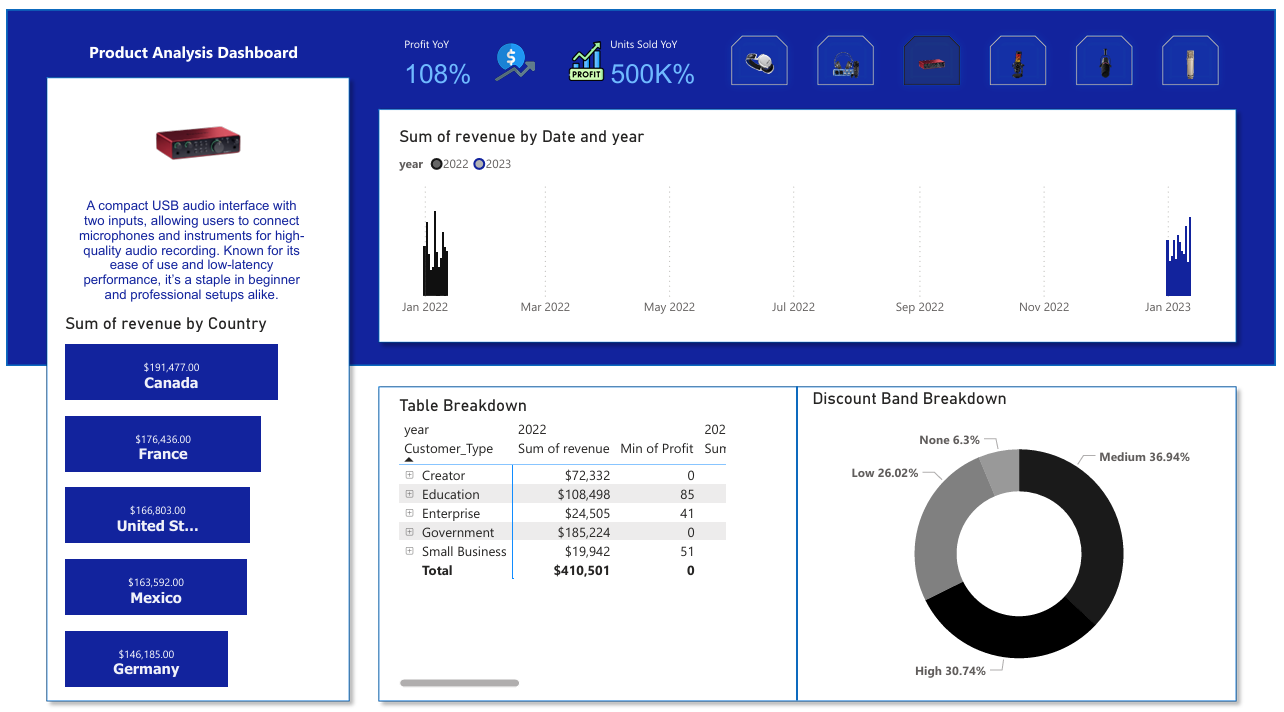

This screenshot's page, from the dashboard's own definition file:
{"tool":"powerbi","page":{"name":"Page 1","canvas":[1280,720],"ordinal":0},"visuals":[{"type":"shape","box":[0,0,1280,359.4],"z":0},{"type":"shape","box":[365.7,91.4,884.1,253.9],"z":1000},{"type":"shape","box":[30.8,58.9,324.6,648.4],"z":2000},{"type":"advancedSlicerVisual","fields":{"Values":["Query1.Image_url"]},"box":[714.6,10,526.9,81.6],"z":3000},{"type":"cardVisual","fields":{"Data":["Min(Query1.Image_url)"]},"box":[112.4,68.9,160.5,156.9],"z":5000},{"type":"shape","box":[365.7,370.6,884.1,336.5],"z":6000},{"type":"cardVisual","fields":{"Rows":["Query1.Description"]},"box":[66.2,139.6,934,205.8],"z":7000},{"type":"clusteredBarChart","fields":{"Category":["Query1.Country"],"Y":["Sum(Query1.revenue)"]},"box":[54.4,305.6,277.5,384.5],"z":8000},{"type":"columnChart","fields":{"Y":["Sum(Query1.revenue)"],"Series":["Query1.year"],"Category":["Query1.Date"]},"box":[391,117,834,201],"z":9000},{"type":"donutChart","title":"Discount Band Breakdown","fields":{"Category":["Query1.Discount_Band"],"Y":["Sum(Query1.revenue)"]},"box":[808.3,382.2,427,315.1],"z":10000},{"type":"pivotTable","title":"Table Breakdown","fields":{"Rows":["Query1.Customer_Type","Query1.Product"],"Columns":["Query1.year"],"Values":["Sum(Query1.revenue)","Min(Query1.Profit)"]},"box":[391,389.1,339.5,299.6],"z":11000},{"type":"shape","box":[647.8,380.3,299.6,317.1],"z":12000},{"type":"cardVisual","fields":{"Data":["Query1.profit yoy","Sum(Query1.Units_Sold)"]},"box":[383.6,10,331,81.6],"z":13000},{"type":"textbox","box":[78,27.2,229.4,31.7],"z":14000}]}

Visuals, with their boxes in screenshot pixels (x1, y1, x2, y2), scaled from the page's 1280x720 canvas onto the 1284x712 screenshot:
shape: crop(0, 0, 1283, 355)
shape: crop(367, 90, 1254, 341)
shape: crop(31, 58, 357, 699)
advancedSlicerVisual - Query1.Image_url: crop(717, 10, 1245, 91)
cardVisual - Min(Query1.Image_url): crop(113, 68, 274, 223)
shape: crop(367, 366, 1254, 699)
cardVisual - Query1.Description: crop(66, 138, 1003, 342)
clusteredBarChart - Query1.Country x Sum(Query1.revenue): crop(55, 302, 333, 682)
columnChart - Sum(Query1.revenue) x Query1.year: crop(392, 116, 1229, 314)
"Discount Band Breakdown" donutChart: crop(811, 378, 1239, 690)
"Table Breakdown" pivotTable: crop(392, 385, 733, 681)
shape: crop(650, 376, 950, 690)
cardVisual - Query1.profit yoy x Sum(Query1.Units_Sold): crop(385, 10, 717, 91)
textbox: crop(78, 27, 308, 58)
